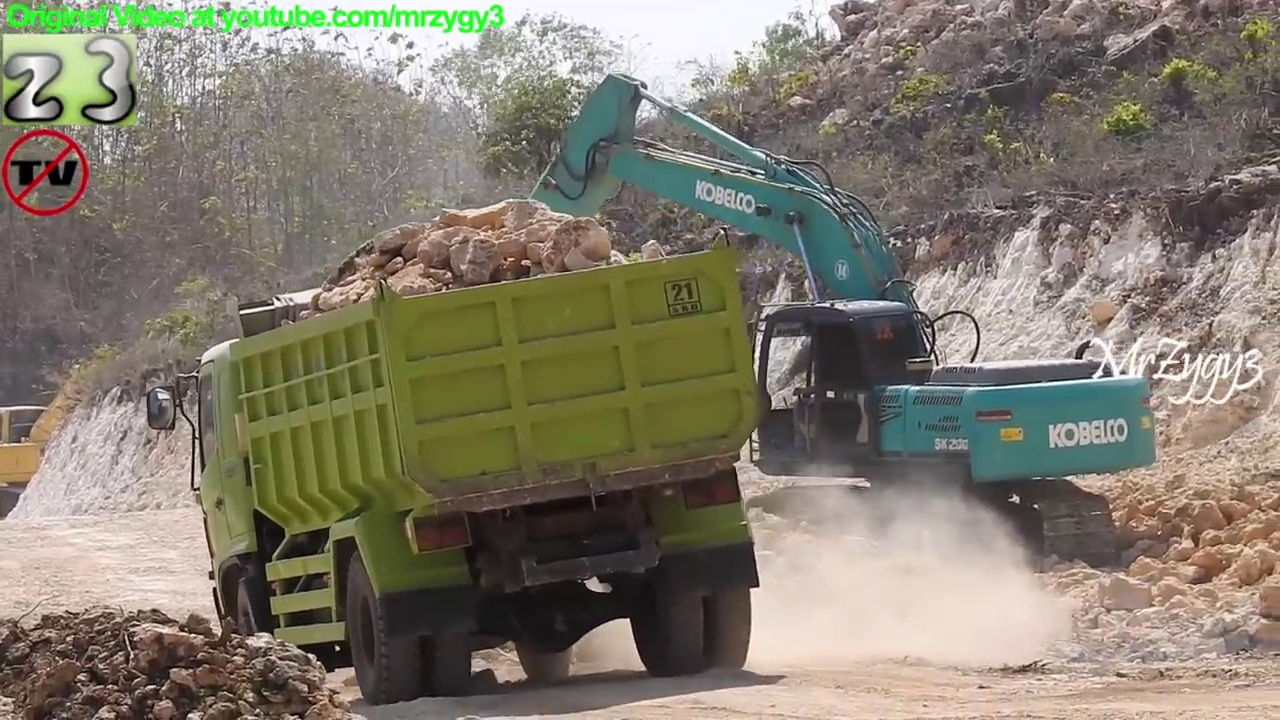excavator: (465, 69, 1167, 583), (1, 350, 134, 521)
truck: (143, 223, 785, 705)
